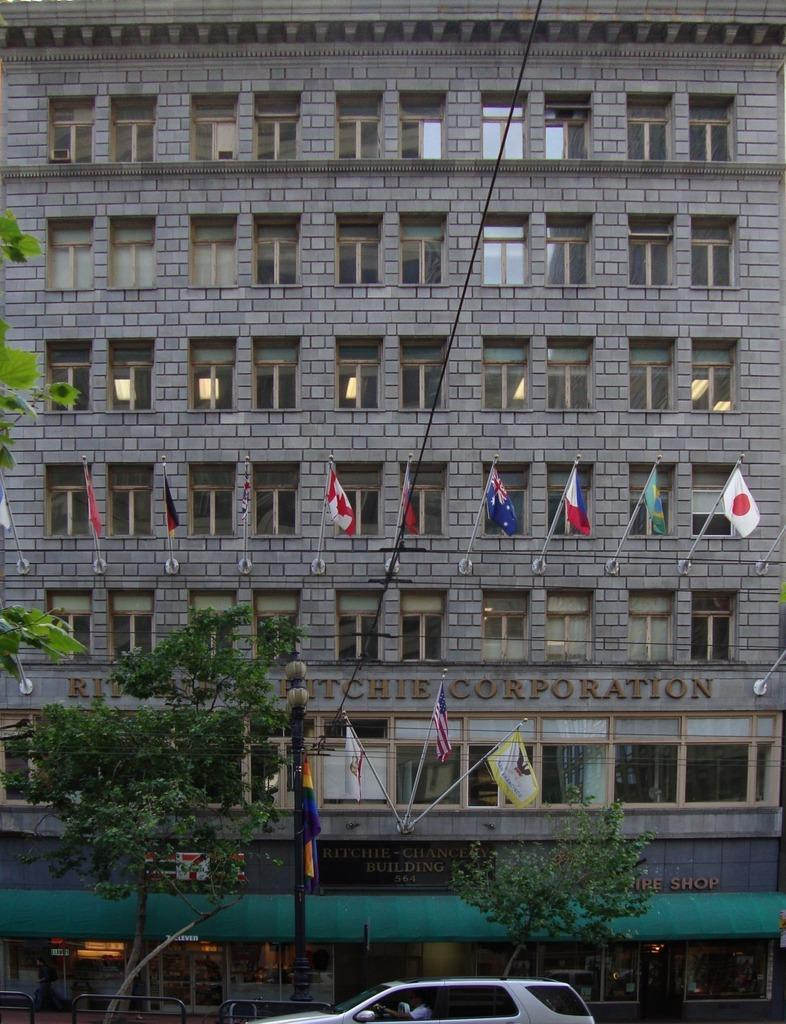window: (6, 711, 779, 809), (691, 465, 740, 539), (44, 587, 93, 661), (253, 464, 301, 538), (337, 464, 385, 538), (629, 464, 677, 538), (483, 464, 531, 538), (691, 589, 739, 663), (628, 590, 676, 664), (546, 589, 594, 663), (483, 589, 531, 663), (402, 590, 450, 664), (337, 590, 385, 664), (191, 590, 239, 664), (108, 589, 156, 663), (629, 215, 678, 287), (255, 338, 304, 410), (547, 213, 595, 286), (400, 213, 448, 286), (338, 213, 386, 286), (399, 337, 447, 410), (45, 464, 93, 537), (107, 463, 155, 536), (188, 464, 236, 537), (399, 463, 447, 536), (546, 464, 594, 537), (252, 589, 300, 662), (482, 214, 530, 286), (253, 215, 301, 287), (190, 215, 238, 287), (109, 217, 157, 289), (46, 219, 94, 291), (45, 339, 93, 411), (106, 340, 154, 412), (188, 339, 236, 411), (335, 338, 383, 410), (485, 338, 533, 410), (547, 337, 595, 409), (628, 338, 676, 410), (692, 338, 740, 410), (337, 92, 386, 161), (687, 95, 735, 164), (191, 94, 239, 162), (254, 92, 302, 160), (400, 93, 448, 161), (480, 91, 528, 159), (543, 92, 591, 160), (627, 93, 675, 161), (691, 218, 739, 286), (109, 97, 155, 164), (49, 97, 94, 164)
